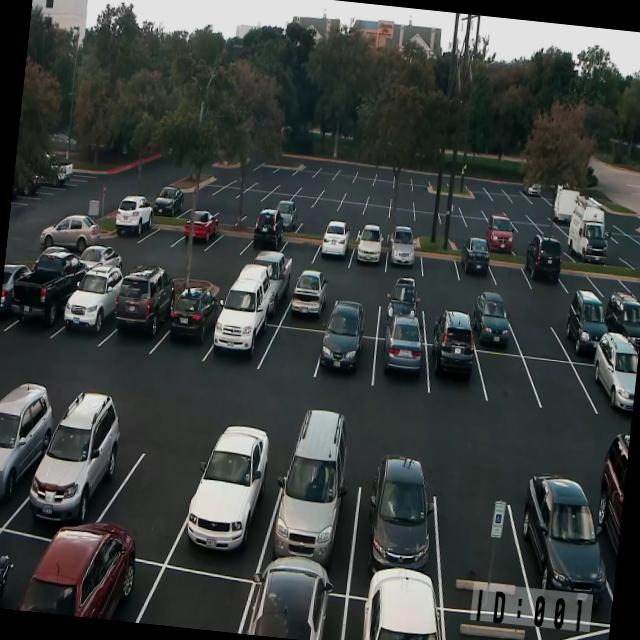car: (266, 444, 362, 590), (350, 458, 446, 596), (180, 444, 276, 571), (33, 404, 125, 534), (518, 476, 604, 602), (28, 531, 140, 621), (238, 575, 345, 640), (0, 386, 50, 524), (596, 466, 625, 612), (208, 316, 270, 378), (584, 354, 638, 424), (238, 255, 294, 322), (316, 330, 376, 390), (426, 344, 484, 406), (372, 338, 430, 398), (558, 302, 612, 364), (286, 266, 334, 328), (157, 316, 214, 368), (57, 301, 115, 352), (468, 297, 517, 355), (109, 310, 164, 360), (13, 292, 65, 342), (378, 288, 424, 338), (522, 246, 566, 297), (454, 238, 496, 288), (563, 230, 607, 270), (384, 233, 422, 279), (182, 213, 218, 254), (315, 232, 353, 270), (351, 234, 386, 275), (248, 219, 284, 258), (116, 211, 151, 247), (152, 192, 182, 221), (0, 292, 17, 333)
free: (427, 473, 532, 620), (102, 430, 202, 562), (128, 558, 252, 634), (527, 355, 590, 419), (476, 350, 537, 415), (261, 322, 322, 384), (323, 283, 383, 337), (416, 294, 476, 346), (509, 306, 564, 361), (488, 248, 530, 292), (418, 242, 460, 285), (557, 264, 598, 300), (212, 225, 252, 260), (144, 218, 182, 254), (280, 231, 318, 261), (508, 222, 541, 252), (325, 214, 358, 238), (465, 215, 492, 244), (358, 217, 388, 242), (298, 215, 328, 237), (422, 224, 452, 246), (527, 202, 554, 225), (249, 210, 277, 232), (263, 192, 291, 210), (392, 222, 416, 241), (314, 196, 340, 213), (343, 187, 369, 204), (292, 192, 316, 210), (241, 188, 267, 204), (195, 182, 221, 198), (367, 190, 392, 206), (459, 202, 484, 218), (220, 184, 244, 200), (505, 208, 529, 224), (252, 177, 277, 192), (432, 194, 453, 211), (412, 195, 434, 211), (465, 179, 490, 193), (502, 183, 526, 197), (412, 209, 433, 225), (391, 195, 414, 209), (275, 180, 297, 194), (256, 162, 278, 176), (446, 212, 466, 226), (374, 170, 395, 182), (334, 170, 354, 182), (276, 164, 296, 176), (408, 174, 428, 186), (450, 182, 467, 196), (352, 175, 373, 186), (410, 186, 430, 197), (318, 165, 337, 176), (392, 182, 412, 191), (298, 165, 318, 174)
